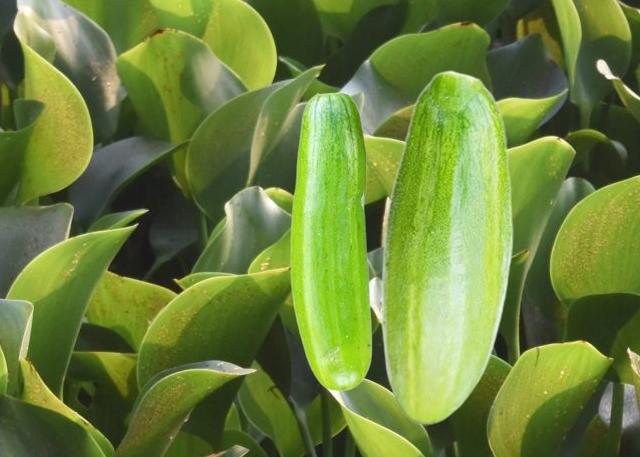cucumber: (380, 70, 512, 424), (290, 91, 371, 390)
